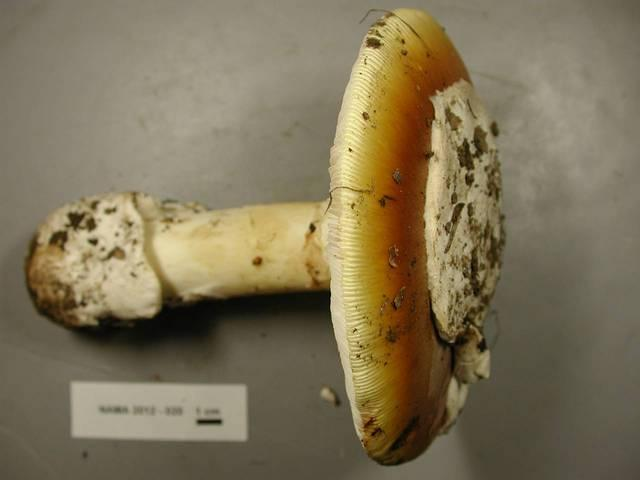Edible Mushroom: (24, 6, 507, 466), (321, 5, 506, 466)
